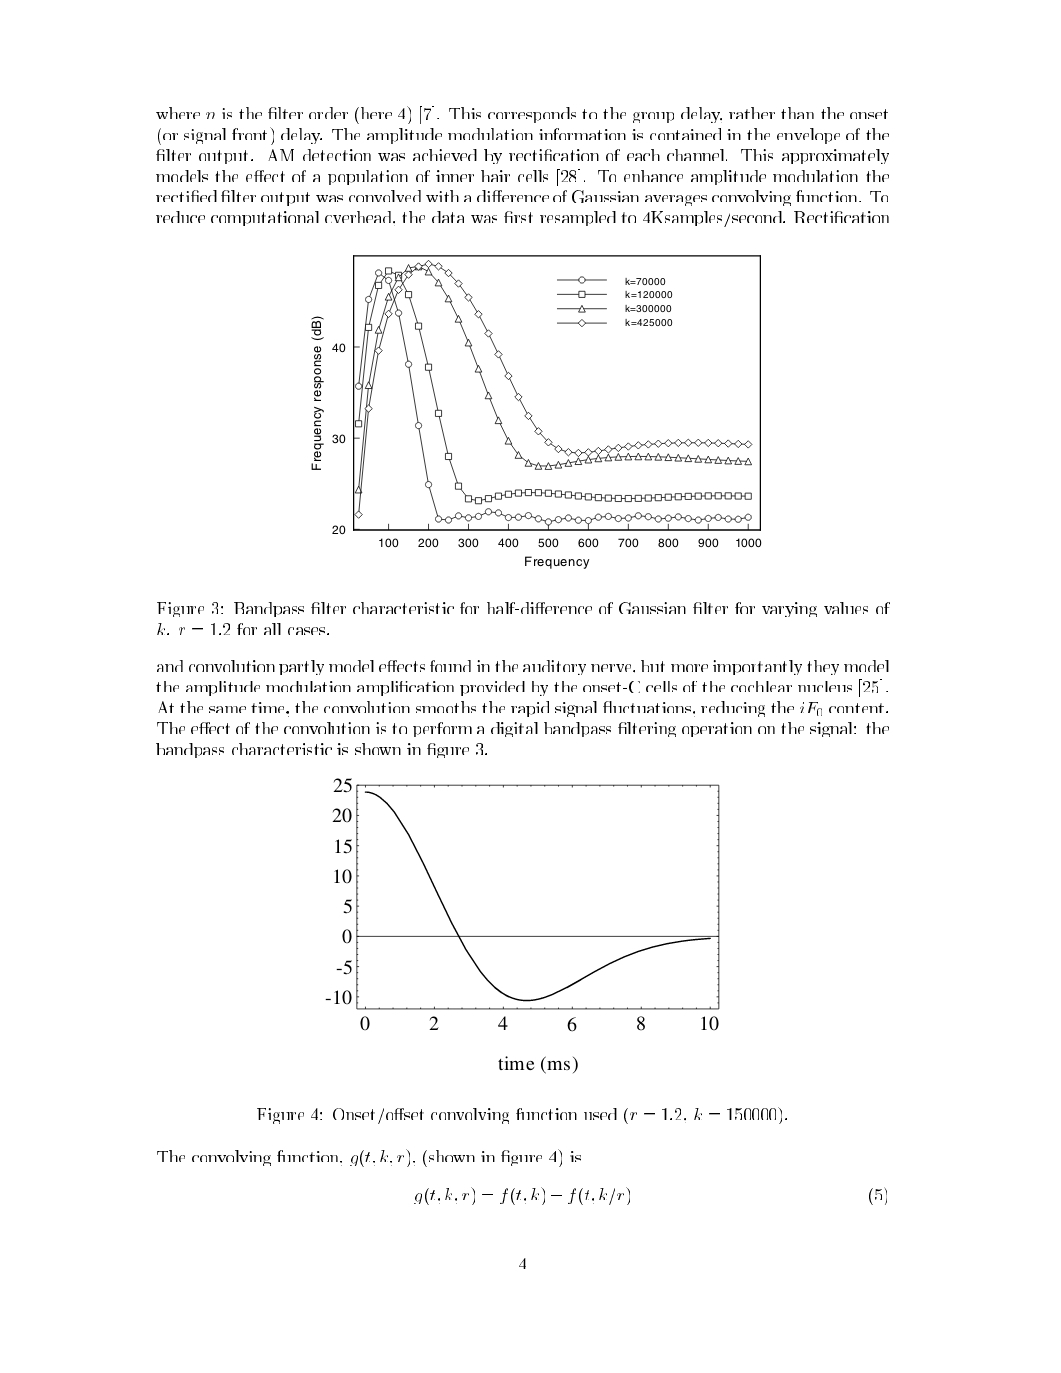figure: (311, 255, 761, 568), (325, 778, 719, 1073)
formula: (413, 1186, 886, 1205)
